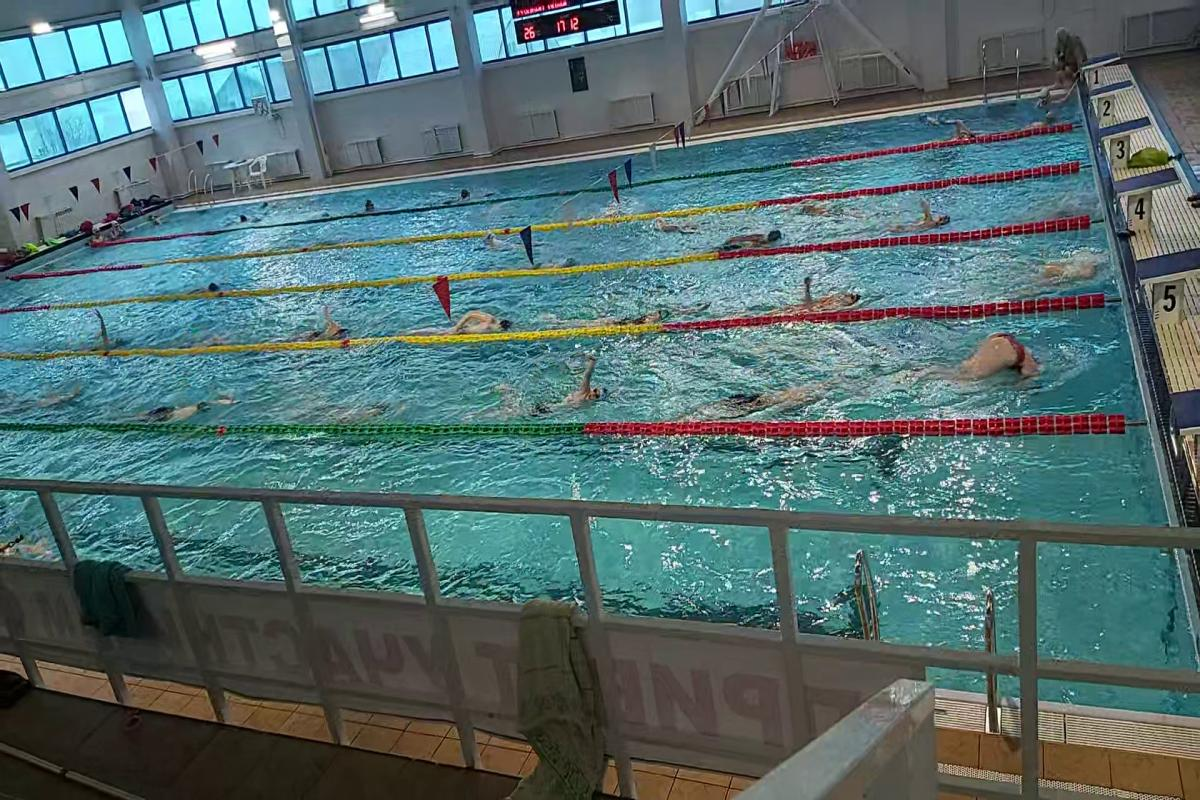swimmer: (926, 321, 1048, 398), (698, 367, 851, 412), (765, 268, 871, 314), (532, 358, 614, 411), (415, 304, 528, 340), (134, 389, 231, 419), (887, 203, 964, 236), (713, 225, 790, 254), (302, 309, 367, 341), (798, 196, 866, 225), (640, 212, 700, 237)
